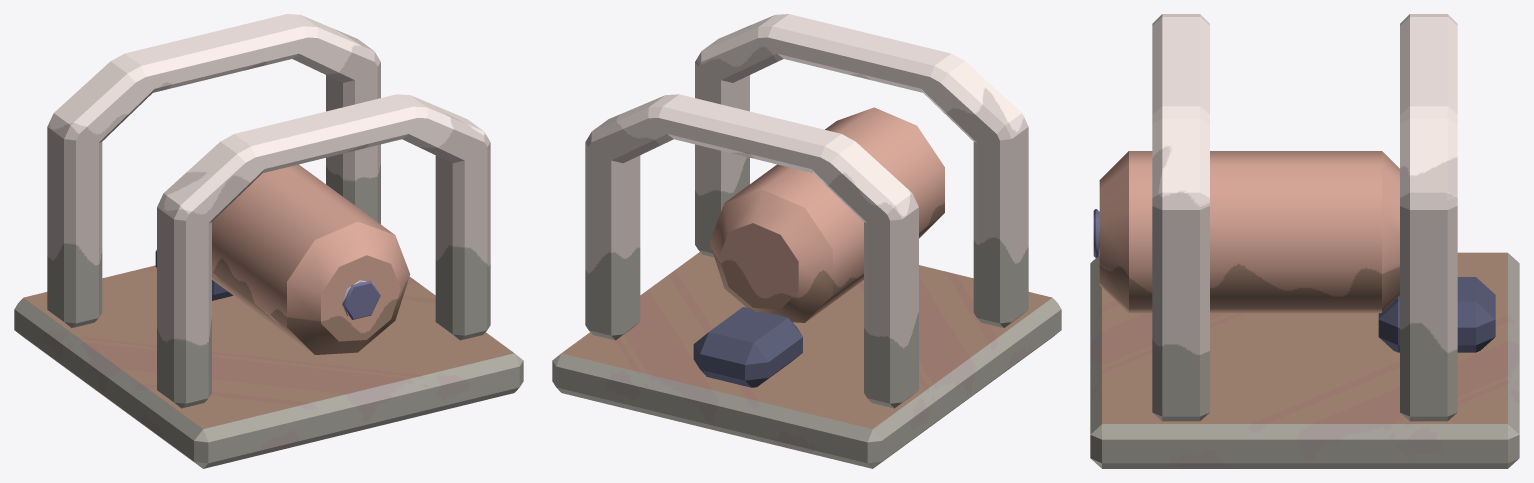
Rendered from R4X_WeaponDurabilityBooster_LOD1.glb.
3 renders of one model, left to right at view 1: azimuth 30°, elevation 25°; view 2: azimuth 150°, elevation 25°; view 3: azimuth 270°, elevation 25°, orthographic. The views are drawn at different scales.
Visible parts, largest first — view 1: R4X_WeaponDurabilityBooster_LOD1; view 2: R4X_WeaponDurabilityBooster_LOD1; view 3: R4X_WeaponDurabilityBooster_LOD1.
Part boxes in pixels (x1=…): R4X_WeaponDurabilityBooster_LOD1: x1=14, y1=14, x2=523, y2=468; R4X_WeaponDurabilityBooster_LOD1: x1=552, y1=14, x2=1061, y2=468; R4X_WeaponDurabilityBooster_LOD1: x1=1090, y1=14, x2=1519, y2=468.
Bounding box in the file's own units: 0.52 × 0.43 × 0.52.
5 materials, 4 textured.
